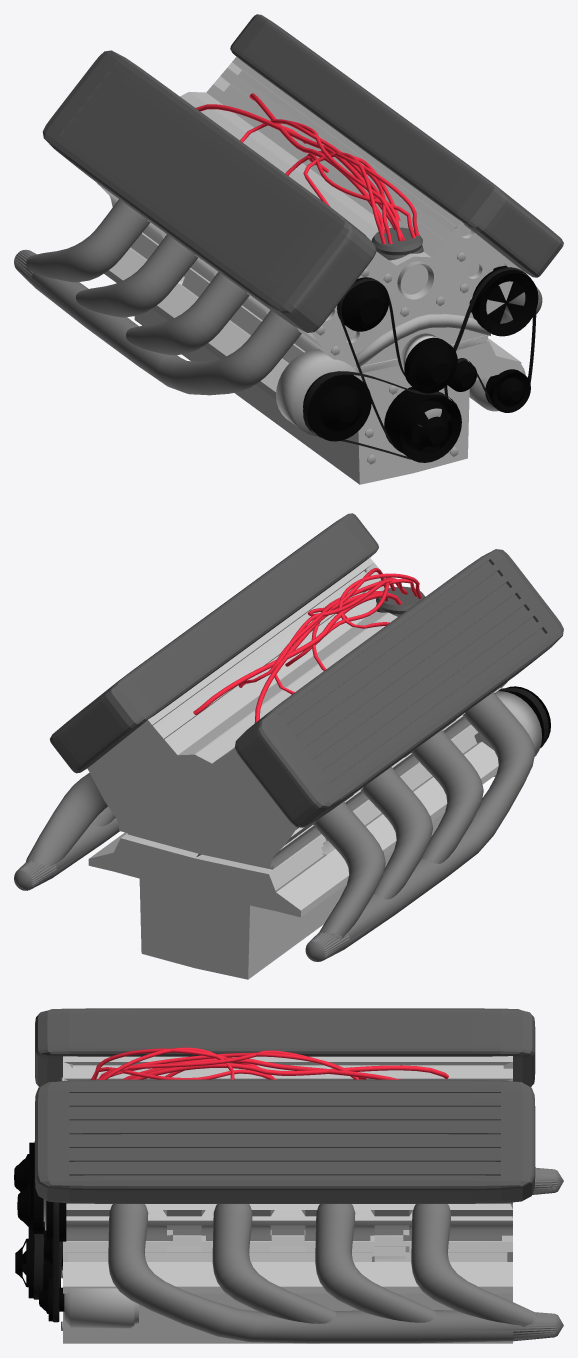
File: engine.gltf
3 renders of one model, top to bottom at view 1: azimuth 30°, elevation 25°; view 2: azimuth 150°, elevation 25°; view 3: azimuth 270°, elevation 25°, orthographic.
Visible parts, largest first — view 1: Cube.003, Cylinder.009, Cylinder.037, Cube.002, Cylinder.016, Cylinder.002, Cylinder.012, Cylinder, Cylinder.001, Cylinder.003, Cylinder.004, Curve.001 (+5 smaller); view 2: Cylinder.009, Cube.003, Cylinder.037, Cube.002, Cylinder.008, Cylinder.016, Cylinder.001, Cylinder.010; view 3: Cube.002, Cylinder.009, Cylinder.008, Cube.003, Cylinder.016, Cylinder.013, Cylinder.002, Cylinder.003, Curve.001, Curve, Cylinder.037, Cylinder.012 (+2 smaller).
Boxes of the visible parts, x1,y1,x2,y2 form: Cube.003: (42, 50, 376, 332); Cylinder.009: (96, 56, 522, 484); Cylinder.037: (14, 199, 301, 395); Cube.002: (230, 14, 563, 277); Cylinder.016: (196, 93, 419, 243); Cylinder.002: (384, 387, 461, 462); Cylinder.012: (303, 372, 371, 441); Cylinder: (469, 266, 538, 336); Cylinder.001: (276, 349, 360, 436); Cylinder.003: (404, 337, 457, 393); Cylinder.004: (337, 277, 389, 331); Curve.001: (338, 267, 536, 452); Cylinder.009: (87, 557, 507, 979); Cube.003: (235, 549, 563, 827); Cylinder.037: (305, 692, 535, 961); Cube.002: (50, 513, 378, 773); Cylinder.008: (14, 773, 119, 890); Cylinder.016: (193, 568, 421, 722); Cylinder.001: (474, 691, 542, 776); Cylinder.010: (376, 586, 425, 616); Cube.002: (35, 1079, 535, 1203); Cylinder.009: (63, 1056, 512, 1343); Cylinder.008: (108, 1204, 563, 1343); Cube.003: (35, 1008, 535, 1086); Cylinder.016: (90, 1047, 448, 1079); Cylinder.013: (64, 1288, 138, 1328); Cylinder.002: (15, 1227, 60, 1298); Cylinder.003: (17, 1178, 43, 1233); Curve.001: (45, 1081, 62, 1322); Curve: (33, 1141, 44, 1299); Cylinder.037: (532, 1167, 563, 1194); Cylinder.012: (14, 1142, 34, 1191).
Size of the model in its own units: 7.69 by 6.17 by 11.21.
